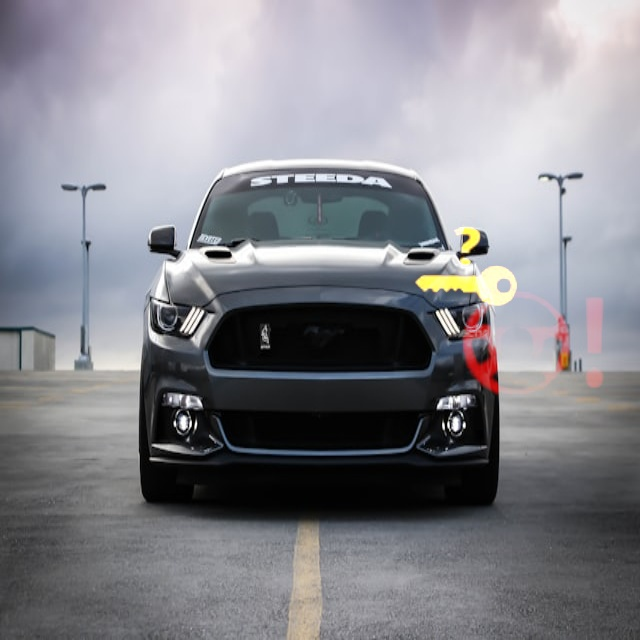symbol: (449, 259, 620, 430), (388, 189, 544, 345)
